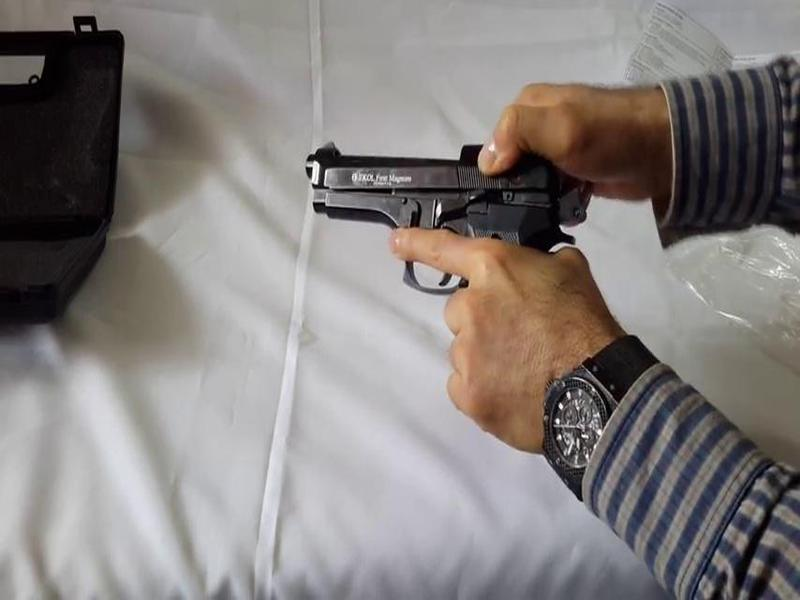Pistola: (290, 129, 586, 357)
